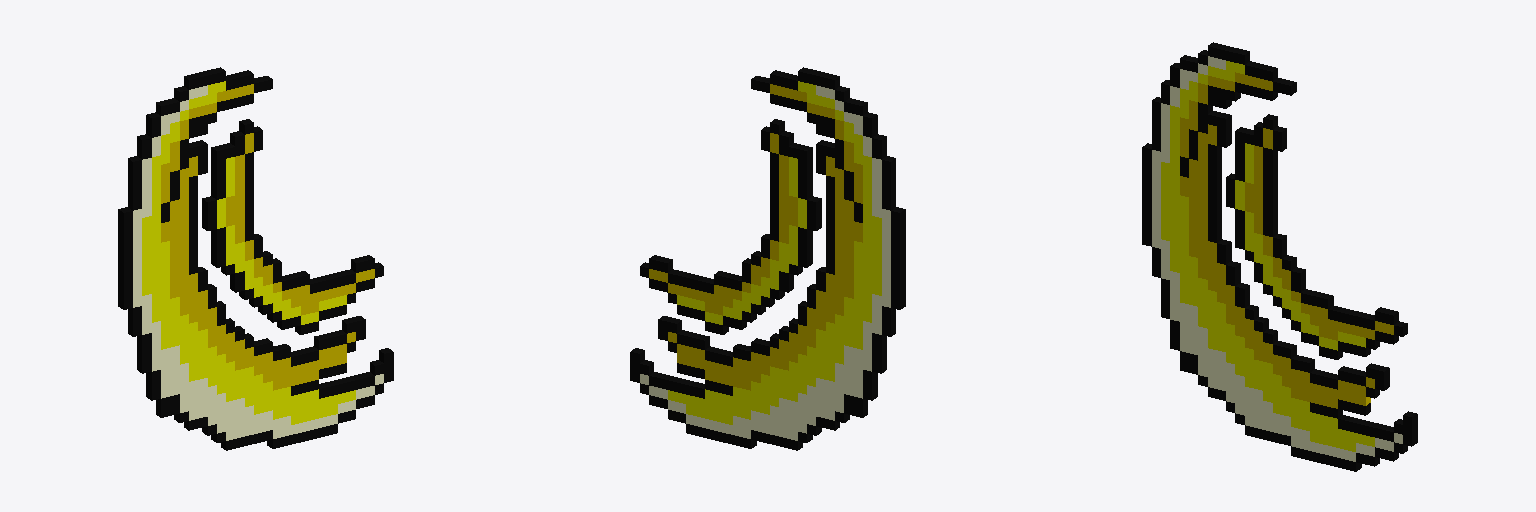
The picture shows the model from 3 angles: view 1: azimuth 30°, elevation 25°; view 2: azimuth 150°, elevation 25°; view 3: azimuth 330°, elevation 25°; orthographic projection.
Visible parts, largest first — view 1: object 1; view 2: object 1; view 3: object 1.
Boxes of the visible parts, <box> form: object 1: <box>118,67,393,450</box>; object 1: <box>630,67,905,450</box>; object 1: <box>1142,42,1417,471</box>.
Size of the model in its own units: 2.9 by 4 by 0.1.
1 materials, 1 textured.